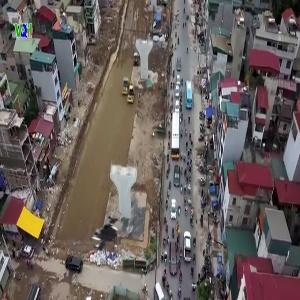drone: (76, 205, 133, 262)
